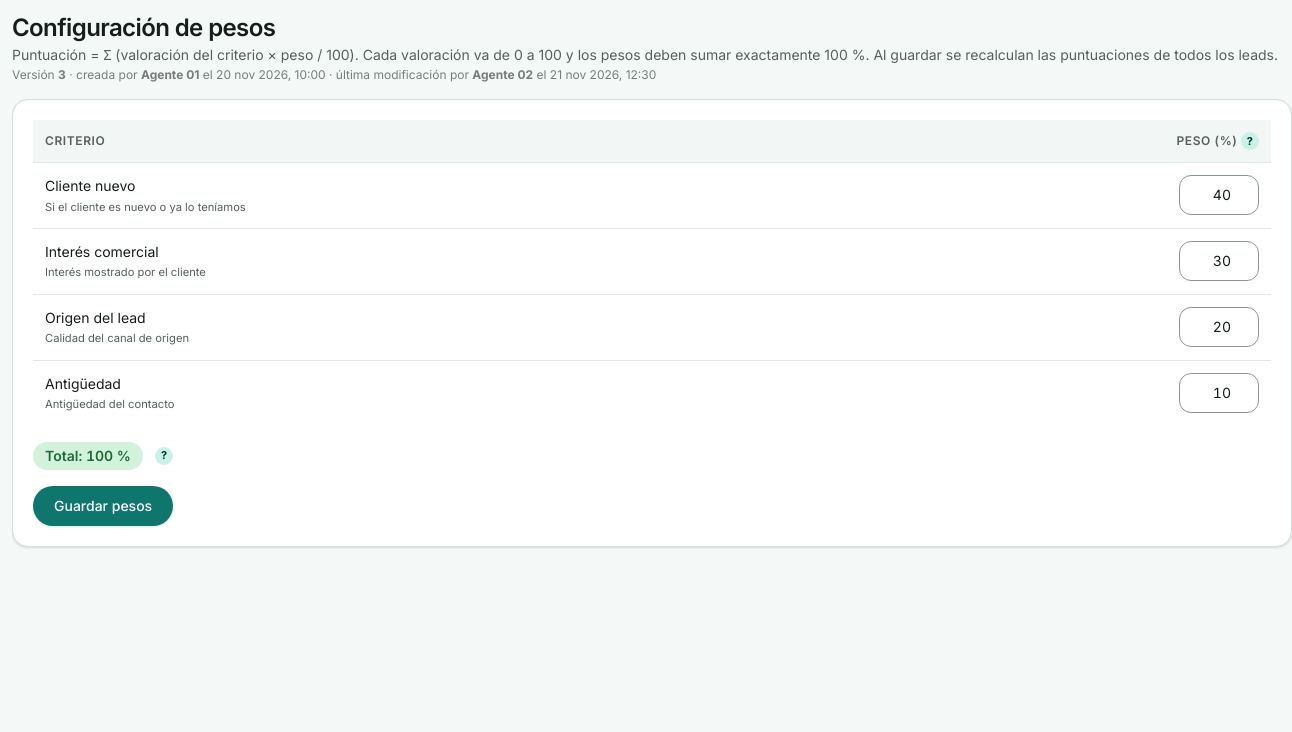
it: WeightsPage › no deja guardar si la suma no es 100 y explica cuánto falta o sobra
Expected: the text "Total: 100 %" is shown, top-left (33, 442), bottom-right (143, 470)
Replace the text in the number field named "Peso de Origen del lead" with "25" at (1219, 327), box top-left (1179, 307), bottom-right (1259, 347)
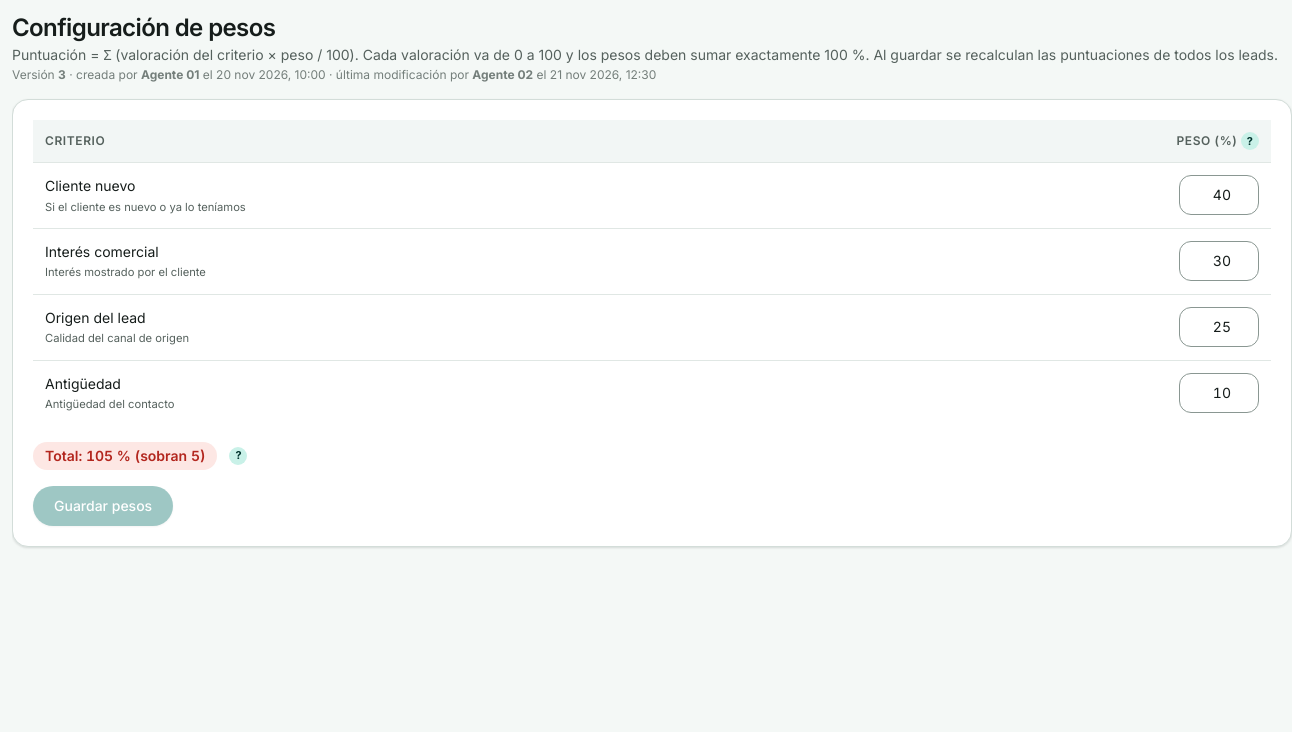
Result: the text "Total: 105 % (sobran 5)" is shown at top-left (33, 442), bottom-right (217, 470)
Result: the button "Guardar pesos" is disabled at top-left (33, 486), bottom-right (173, 526)
Replace the text in the number field named "Peso de Origen del lead" with "15" at (1219, 327), box top-left (1179, 307), bottom-right (1259, 347)
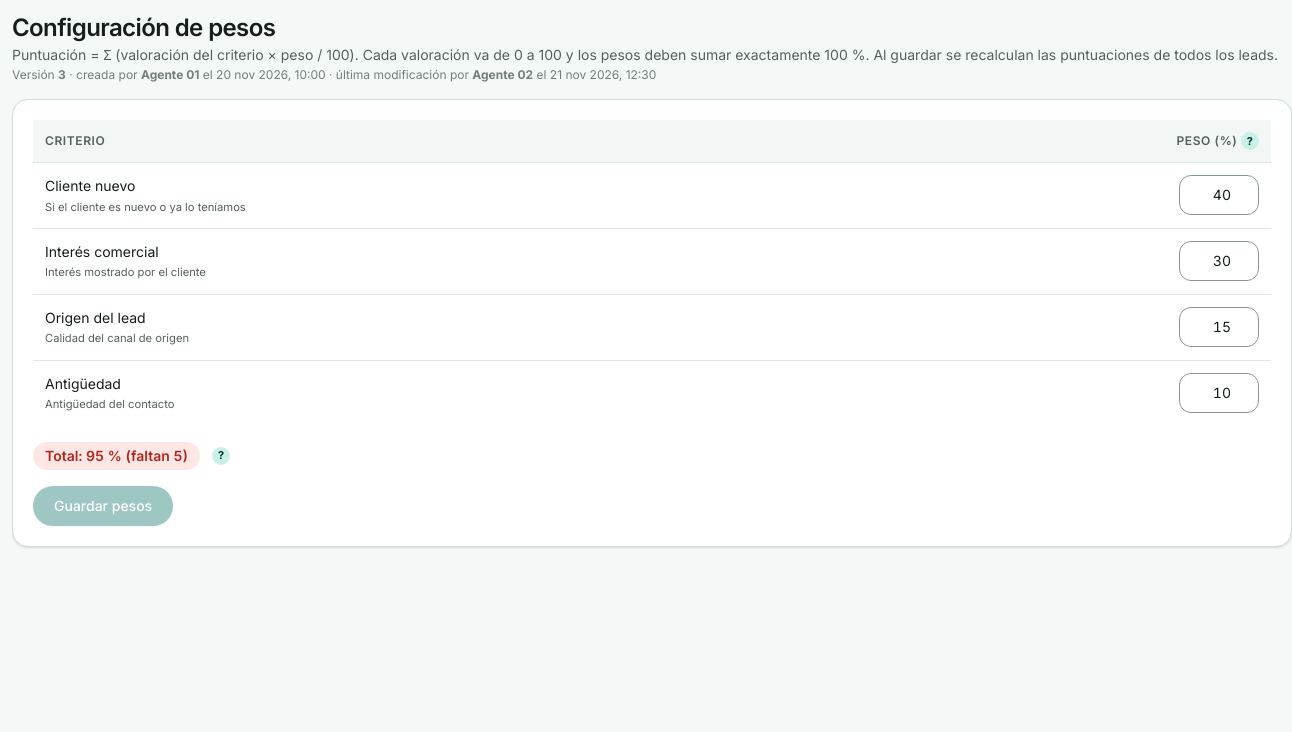
Result: the button "Guardar pesos" is disabled at top-left (33, 486), bottom-right (173, 526)
Result: the text "Total: 95 % (faltan 5)" is shown at top-left (33, 442), bottom-right (200, 470)
